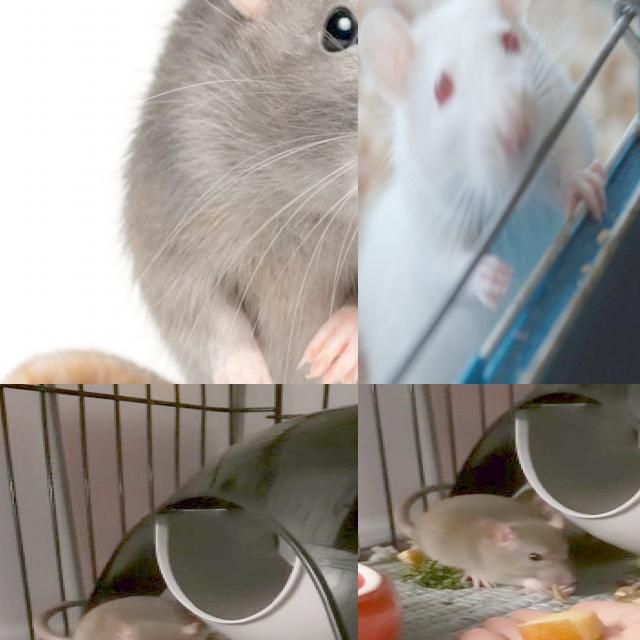rat: (0, 0, 358, 384), (359, 0, 609, 384), (414, 494, 584, 592), (68, 596, 213, 640)
